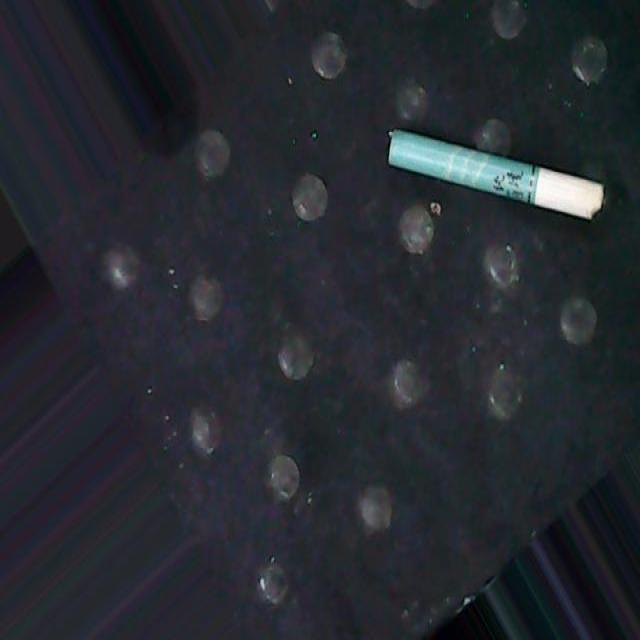-Other waste - cigarette butt-: (389, 130, 605, 220)
